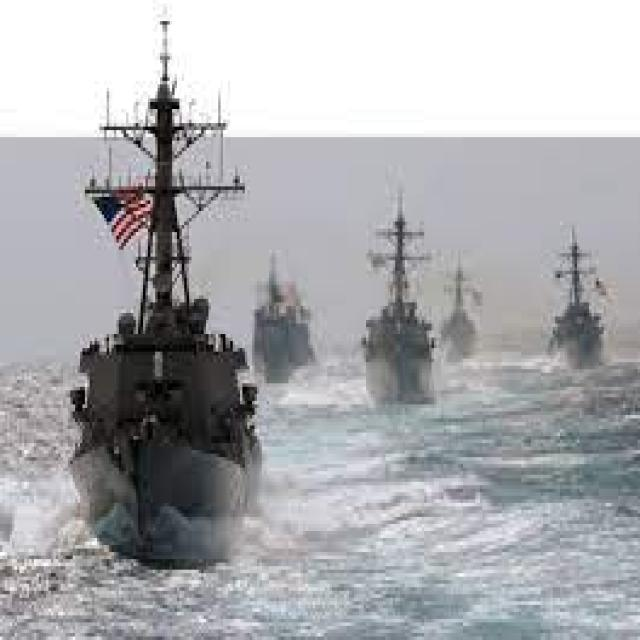navalvessels: (58, 12, 262, 559), (345, 163, 440, 410), (529, 204, 622, 364), (236, 258, 318, 383), (427, 238, 492, 378)
